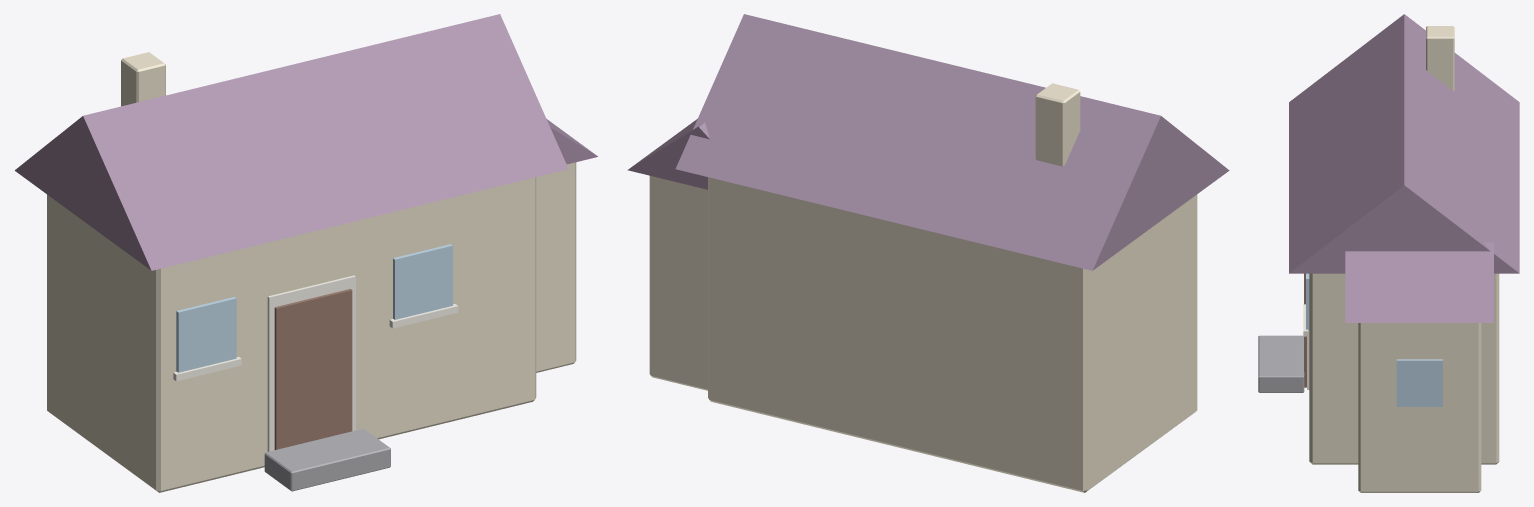
File: house_a.glb
3 views of the same model, side by side, from view 1: azimuth 30°, elevation 25°; view 2: azimuth 150°, elevation 25°; view 3: azimuth 270°, elevation 25° (orthographic). The views are drawn at different scales.
Visible parts, largest first — view 1: house_a; view 2: house_a; view 3: house_a.
Boxes of the visible parts, x1,y1,x2,y2 form: house_a: [15, 14, 597, 492]; house_a: [627, 14, 1229, 492]; house_a: [1258, 14, 1519, 492].
Size of the model in its own units: 4.55 by 3.27 by 2.55.
